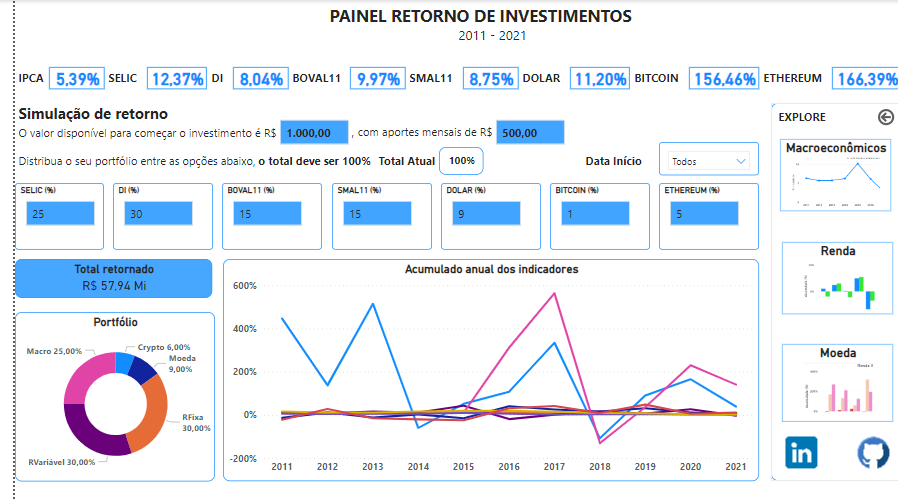

What the dashboard file says about the page in this screenshot:
{"tool":"powerbi","page":{"name":"Simulador","canvas":[1280,720],"ordinal":4},"visuals":[{"type":"textbox","box":[0,96,56,32],"z":0,"group":"g1"},{"type":"shape","box":[1086,149,192,464],"z":0},{"type":"textbox","box":[448,0,480,80],"z":1000},{"type":"card","fields":{"Values":["_Medida.IPCA Media Anual"]},"box":[48.9,96,80,32],"z":1000,"group":"g1"},{"type":"card","fields":{"Values":["_Medida.Bova11 Media Anual"]},"box":[482.1,96,80,32],"z":2000,"group":"g1"},{"type":"textbox","box":[1094,152,128,48],"z":2000},{"type":"textbox","box":[562.9,96,81,32],"z":3000,"group":"g1"},{"type":"image","title":"Macroeconômicos","box":[1102,200,160,104],"z":3000},{"type":"card","fields":{"Values":["_Medida.Smal11 Media Anual"]},"box":[644.8,96,80,32],"z":4000,"group":"g1"},{"type":"image","title":"Renda","box":[1102,332,160,104],"z":4000},{"type":"textbox","box":[725.7,96,73,32],"z":5000,"group":"g1"},{"type":"image","title":"Moeda","box":[1102,464,160,112],"z":5000},{"type":"card","fields":{"Values":["_Medida.Dolar Media Anual"]},"box":[799.5,96,86,32],"z":6000,"group":"g1"},{"type":"actionButton","box":[1238,152,32,32],"z":6000},{"type":"group","id":"g1","title":"Grupo 1","box":[0,96,1277,32],"z":7000},{"type":"textbox","box":[886.4,96,83,32],"z":7000,"group":"g1"},{"type":"card","fields":{"Values":["_Medida.Bitcoin Media Anual"]},"box":[970.3,96,101,32],"z":8000,"group":"g1"},{"type":"textbox","box":[0,144,240,48],"z":8000},{"type":"textbox","box":[1072.1,96,103,32],"z":9000,"group":"g1"},{"type":"textbox","box":[0,176,472,48],"z":9000},{"type":"card","fields":{"Values":["_Medida.Ethe Media Anual"]},"box":[1176,96,101,32],"z":10000,"group":"g1"},{"type":"textbox","box":[560,176,256,48],"z":10000},{"type":"textbox","box":[129.7,96,60,32],"z":11000,"group":"g1"},{"type":"textbox","box":[394.2,96,89,32],"z":12000,"group":"g1"},{"type":"slicer","fields":{"Values":["Parâmetro Inves Inicial.Parâmetro Inves Inicial"]},"box":[447,165,176,48],"z":12000},{"type":"card","fields":{"Values":["_Medida.Selic Media Anual"]},"box":[190.6,96,86,32],"z":13000,"group":"g1"},{"type":"slicer","fields":{"Values":["Parâmetro Apor Inic.Parâmetro Apor Inic"]},"box":[792,165,176,48],"z":13000},{"type":"slicer","title":"IPCA","fields":{"Values":["IPCA.IPCA"]},"box":[0,304,144,96],"z":13000,"group":"g2"},{"type":"textbox","box":[277.5,96,35,32],"z":14000,"group":"g1"},{"type":"group","id":"g2","title":"Grupo 2","box":[0,304,1072,96],"z":14000},{"type":"slicer","title":"SELIC","fields":{"Values":["Parâmetro SELIC.Parâmetro SELIC"]},"box":[132.6,304,144,96],"z":14000,"group":"g2"},{"type":"card","fields":{"Values":["_Medida.DI Media Anual"]},"box":[313.3,96,80,32],"z":15000,"group":"g1"},{"type":"textbox","box":[0,224,600,48],"z":15000},{"type":"slicer","title":"DI","fields":{"Values":["DI.DI"]},"box":[265.1,304,144,96],"z":15000,"group":"g2"},{"type":"card","fields":{"Values":["_Medida.TOTAL DISTRIBUIÇÃO"]},"box":[704,216,80,48],"z":16000},{"type":"slicer","title":"BOVAL11","fields":{"Values":["Parâmetro BOVAL11.Parâmetro BOVAL11"]},"box":[397.7,304,144,96],"z":16000,"group":"g2"},{"type":"slicer","title":"SMAL11","fields":{"Values":["Parâmetro Smal11.Parâmetro Smal11"]},"box":[530.3,304,144,96],"z":17000,"group":"g2"},{"type":"slicer","title":"DOLAR","fields":{"Values":["Parâmetro Dolar.Parâmetro Dolar"]},"box":[662.9,304,144,96],"z":18000,"group":"g2"},{"type":"slicer","title":"BITCOIN","fields":{"Values":["Parâmetro Bitcoin.Parâmetro Bitcoin"]},"box":[795.4,304,144,96],"z":19000,"group":"g2"},{"type":"slicer","title":"ETHEREUM","fields":{"Values":["Parâmetro Ethereum.Parâmetro Ethereum"]},"box":[928,304,144,96],"z":20000,"group":"g2"},{"type":"tableEx","fields":{"Values":["_Medida.Ret Ap Men Selic","_Medida.Ret Inv Ini Selic"]},"box":[240,392,464,144],"z":21000}]}

Visuals, with their boxes in screenshot pixels (x1, y1, x2, y2), scaled from the page's 1280x720 canvas onto the 898x500 screenshot:
textbox: box=[0, 67, 39, 89]
shape: box=[762, 103, 897, 426]
textbox: box=[314, 0, 651, 56]
card - _Medida.IPCA Media Anual: box=[34, 67, 90, 89]
card - _Medida.Bova11 Media Anual: box=[338, 67, 394, 89]
textbox: box=[768, 106, 857, 139]
textbox: box=[395, 67, 452, 89]
"Macroeconômicos" image: box=[773, 139, 885, 211]
card - _Medida.Smal11 Media Anual: box=[452, 67, 508, 89]
"Renda" image: box=[773, 231, 885, 303]
textbox: box=[509, 67, 560, 89]
"Moeda" image: box=[773, 322, 885, 400]
card - _Medida.Dolar Media Anual: box=[561, 67, 621, 89]
actionButton: box=[869, 106, 891, 128]
"Grupo 1" group: box=[0, 67, 896, 89]
textbox: box=[622, 67, 680, 89]
card - _Medida.Bitcoin Media Anual: box=[681, 67, 752, 89]
textbox: box=[0, 100, 168, 133]
textbox: box=[752, 67, 824, 89]
textbox: box=[0, 122, 331, 156]
card - _Medida.Ethe Media Anual: box=[825, 67, 896, 89]
textbox: box=[393, 122, 572, 156]
textbox: box=[91, 67, 133, 89]
textbox: box=[277, 67, 339, 89]
slicer - Parâmetro Inves Inicial.Parâmetro Inves Inicial: box=[314, 115, 437, 148]
card - _Medida.Selic Media Anual: box=[134, 67, 194, 89]
slicer - Parâmetro Apor Inic.Parâmetro Apor Inic: box=[556, 115, 679, 148]
"IPCA" slicer: box=[0, 211, 101, 278]
textbox: box=[195, 67, 219, 89]
"Grupo 2" group: box=[0, 211, 752, 278]
"SELIC" slicer: box=[93, 211, 194, 278]
card - _Medida.DI Media Anual: box=[220, 67, 276, 89]
textbox: box=[0, 156, 421, 189]
"DI" slicer: box=[186, 211, 287, 278]
card - _Medida.TOTAL DISTRIBUIÇÃO: box=[494, 150, 550, 183]
"BOVAL11" slicer: box=[279, 211, 380, 278]
"SMAL11" slicer: box=[372, 211, 473, 278]
"DOLAR" slicer: box=[465, 211, 566, 278]
"BITCOIN" slicer: box=[558, 211, 659, 278]
"ETHEREUM" slicer: box=[651, 211, 752, 278]
tableEx - _Medida.Ret Ap Men Selic x _Medida.Ret Inv Ini Selic: box=[168, 272, 494, 372]
